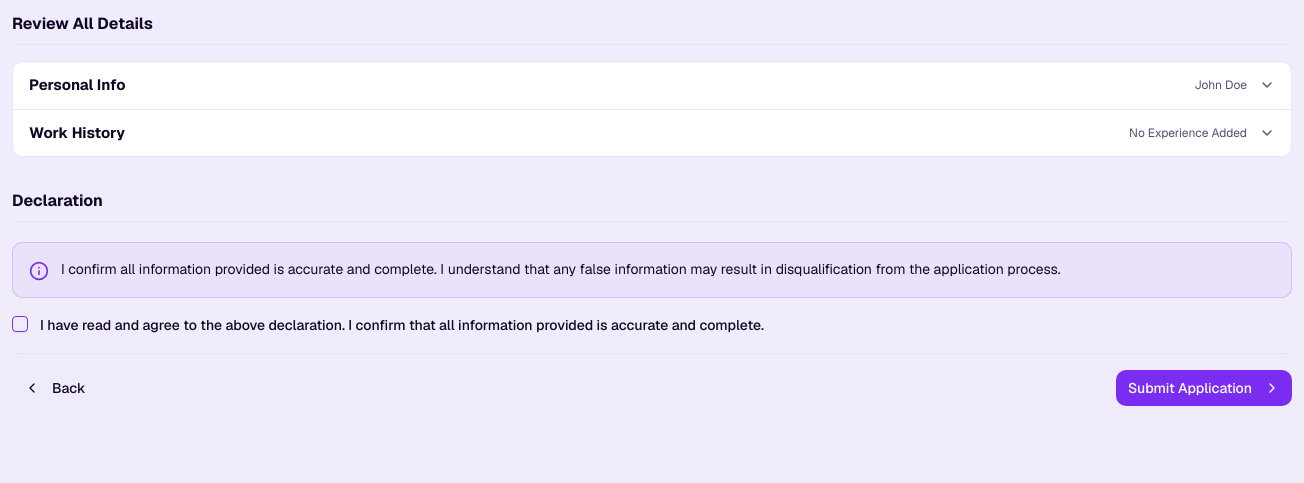
JobApplicationReviewStep › displays submission error message on mutation failure
This screenshot has width=1304, height=483.
// Accept declaration and submit
Click the checkbox.
click(20, 324)  # box [12,316,28,332]
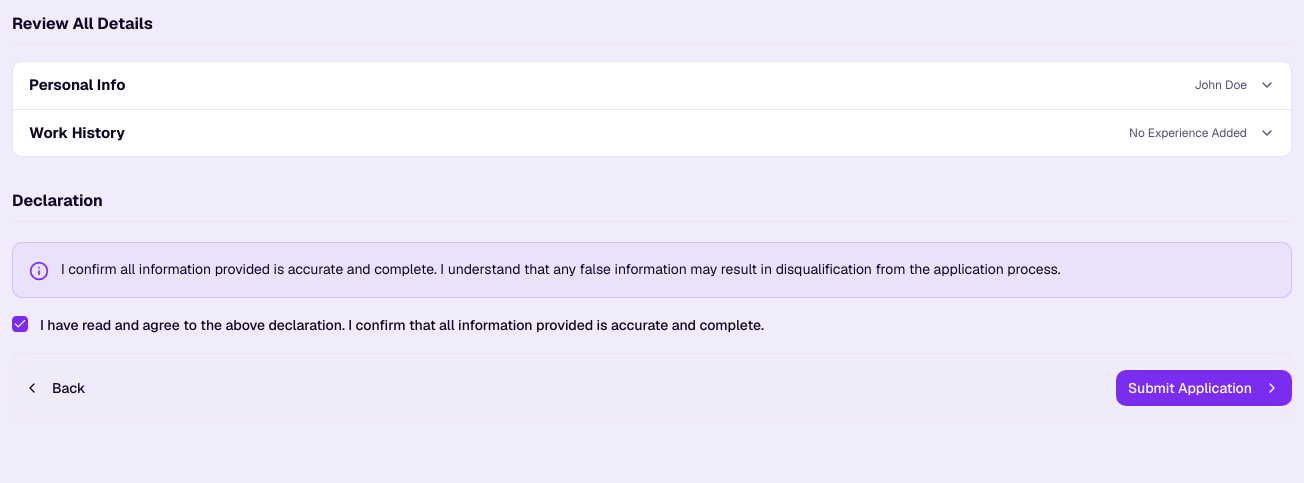
Click the button "Submit Application".
click(1204, 388)  # box [1116,370,1292,406]
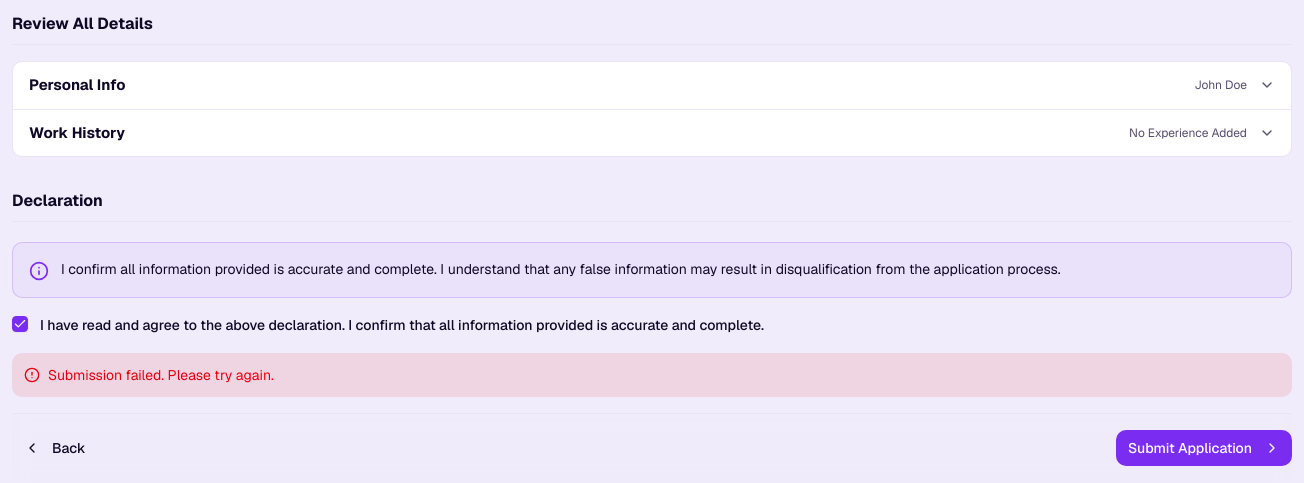
Result: the text "Submission failed. Please try again." is shown at [12,353,1292,397]
